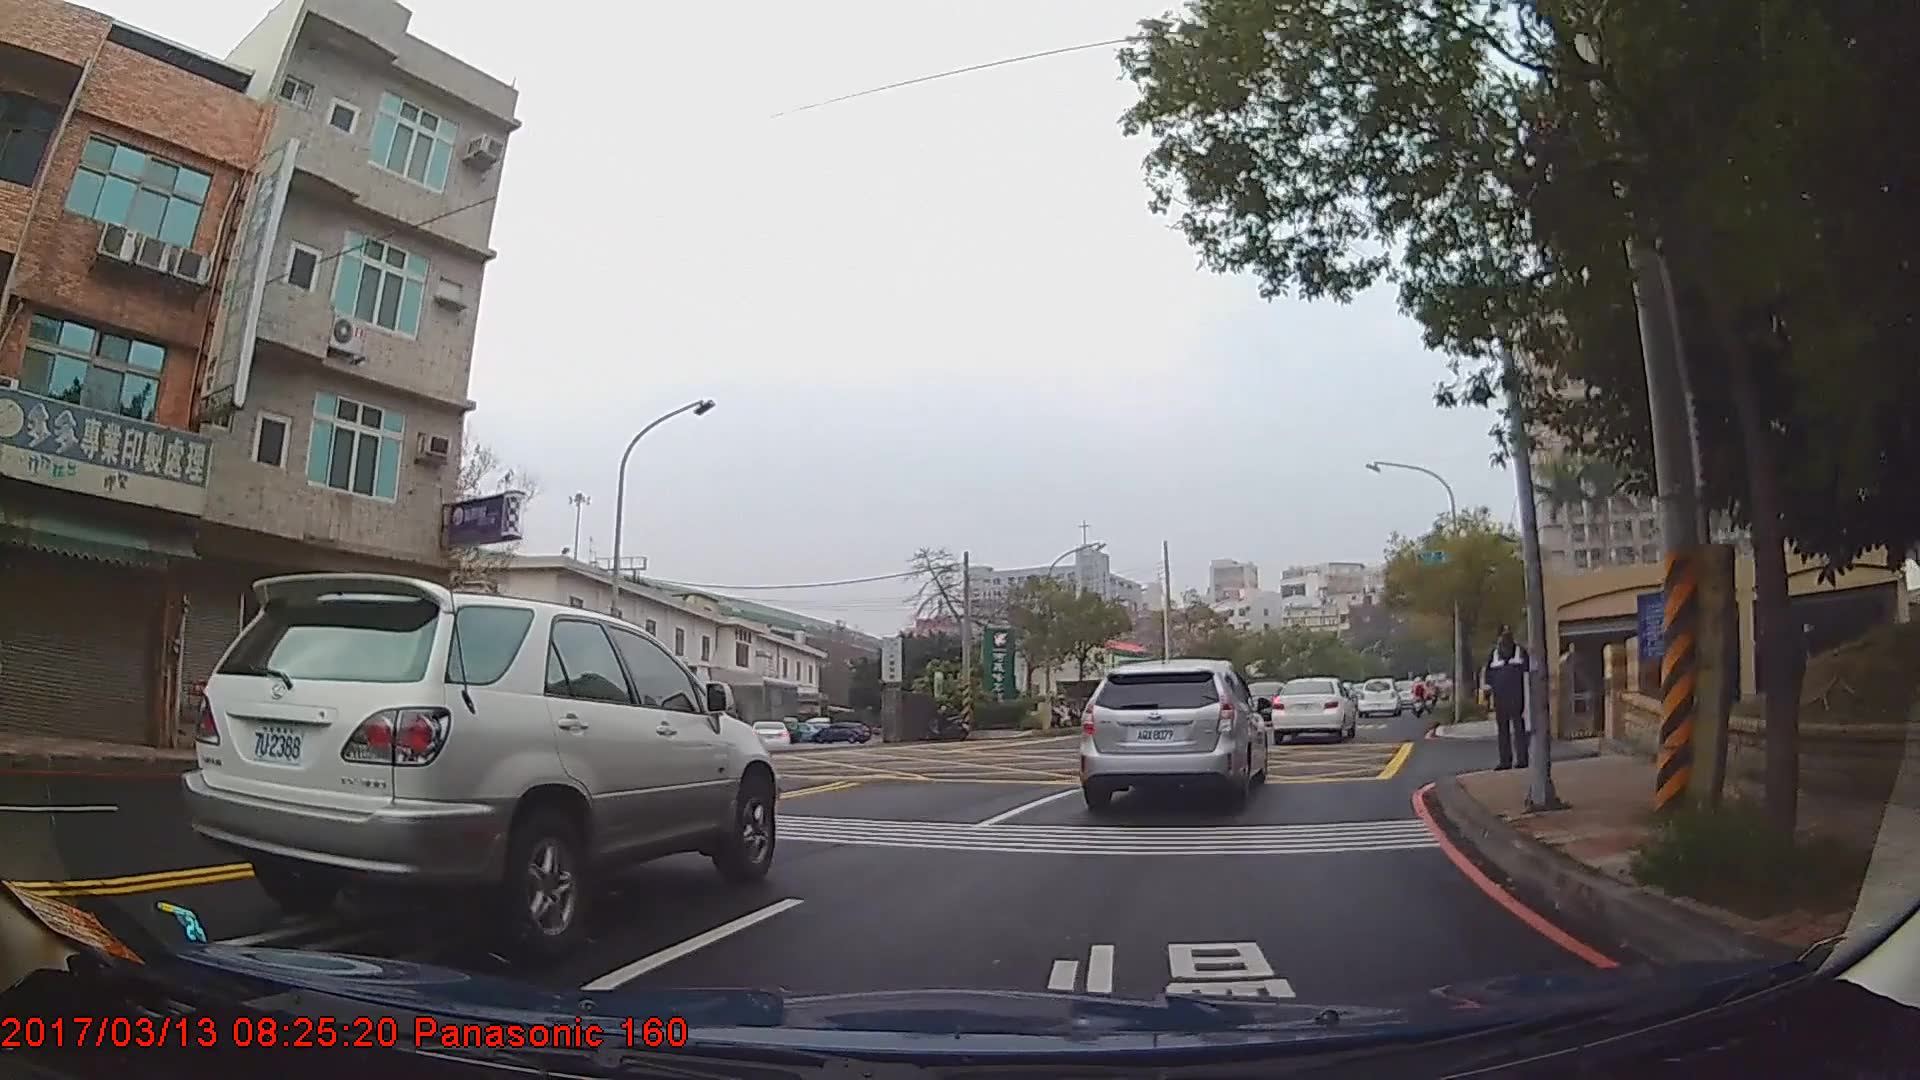pedestrian: (1482, 623, 1539, 769)
vehicle: (180, 568, 780, 951), (1076, 654, 1267, 820), (1267, 674, 1355, 740), (1355, 677, 1403, 720), (810, 720, 872, 742), (747, 718, 792, 747)
